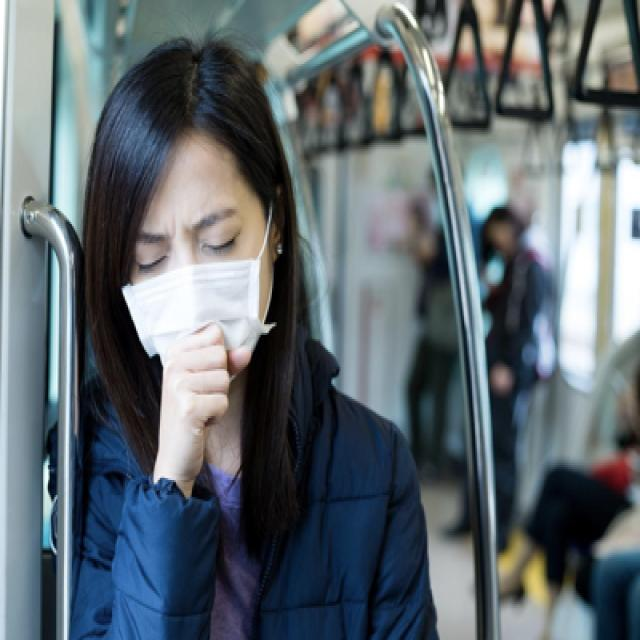mask: (130, 205, 274, 386)
